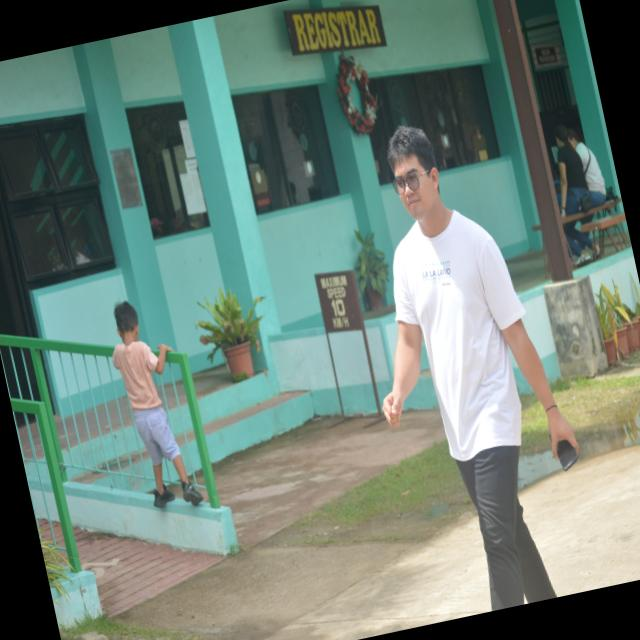person: (383, 127, 578, 610), (113, 301, 203, 508), (555, 125, 588, 216)
